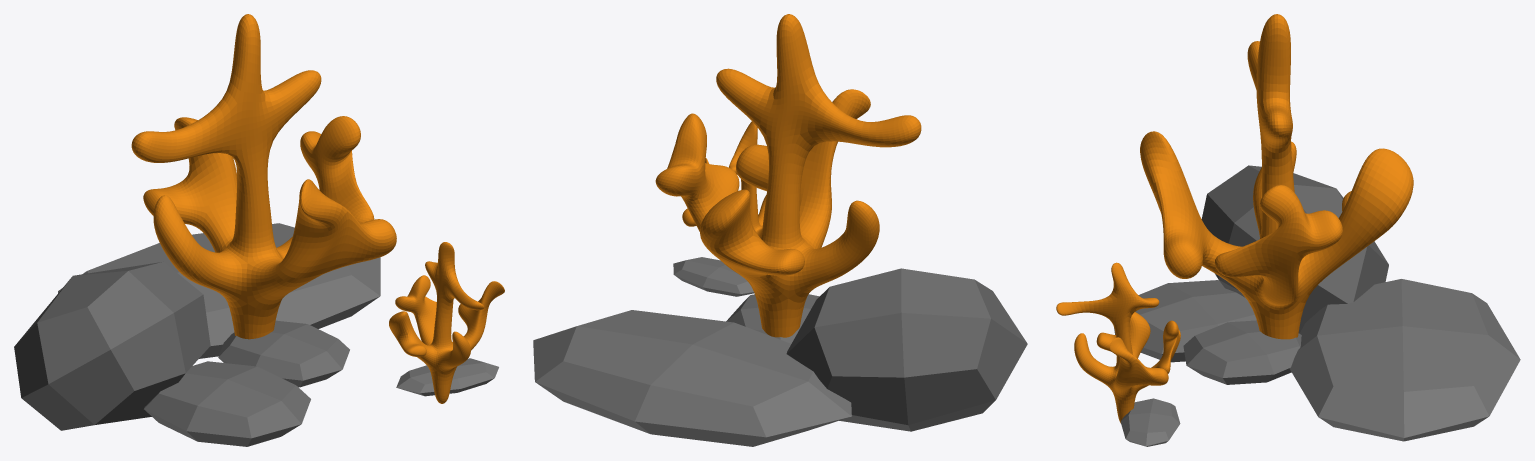
The model's file is Corals2.fbx.
The picture shows the model from 3 angles, left to right: view 1: azimuth 30°, elevation 25°; view 2: azimuth 150°, elevation 25°; view 3: azimuth 270°, elevation 25°; orthographic projection. The views are drawn at different scales.
Parts seen in each view (by area): view 1: Cube, Cube.006, Cube.003, Cube.002, Cube.001, Cube.004, Cube.005; view 2: Cube, Cube.002, Cube.006, Cube.005, Cube.001, Cube.004; view 3: Cube, Cube.002, Cube.006, Cube.001, Cube.004, Cube.003, Cube.005.
Part boxes in pixels (x1,y1,x2,y2): Cube: [131, 14, 396, 339]; Cube.006: [14, 261, 210, 430]; Cube.003: [144, 361, 310, 446]; Cube.002: [58, 223, 380, 358]; Cube.001: [389, 242, 504, 403]; Cube.004: [218, 320, 349, 387]; Cube.005: [396, 358, 498, 396]; Cube: [655, 14, 921, 337]; Cube.002: [533, 310, 851, 446]; Cube.006: [786, 268, 1027, 431]; Cube.005: [673, 257, 754, 296]; Cube.001: [682, 121, 766, 237]; Cube.004: [726, 294, 819, 343]; Cube: [1140, 14, 1413, 339]; Cube.002: [1289, 279, 1520, 441]; Cube.006: [1201, 165, 1388, 333]; Cube.001: [1056, 262, 1180, 423]; Cube.004: [1183, 320, 1301, 384]; Cube.003: [1114, 280, 1256, 362]; Cube.005: [1120, 398, 1180, 446].
Size of the model in its own units: 339 by 296 by 330.
